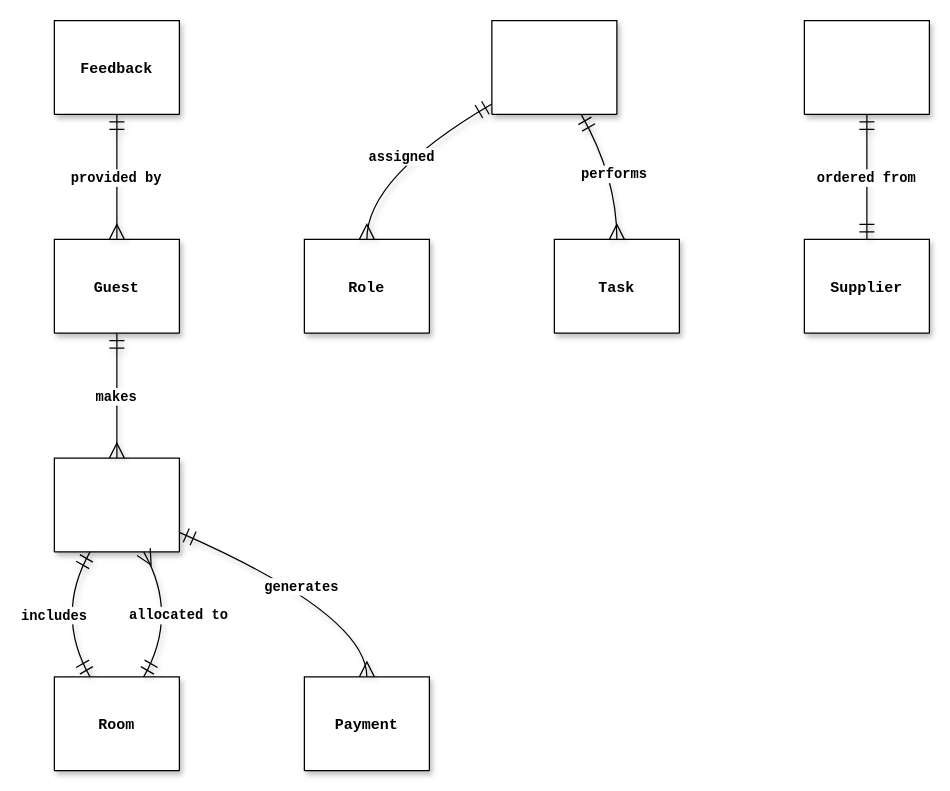
This 950x791 diagram has some shape labels left out. Here are the shapes that lost their labels. From the top down, the centre of each, then its label:
the point at 555,68: Staff
the point at 867,68: Inventory
the point at 117,506: Reservation
